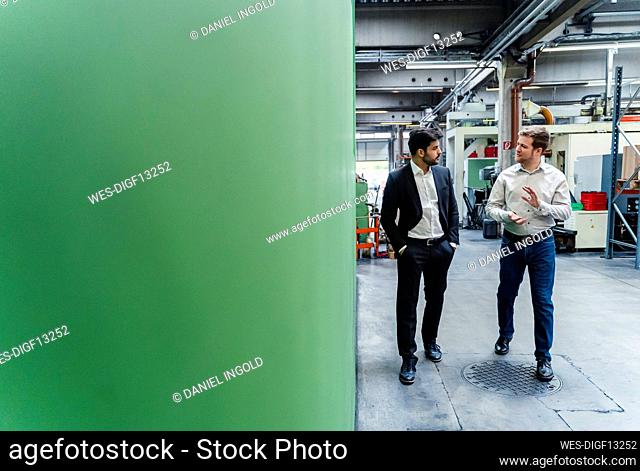person: (485, 125, 571, 381), (381, 129, 461, 385)
